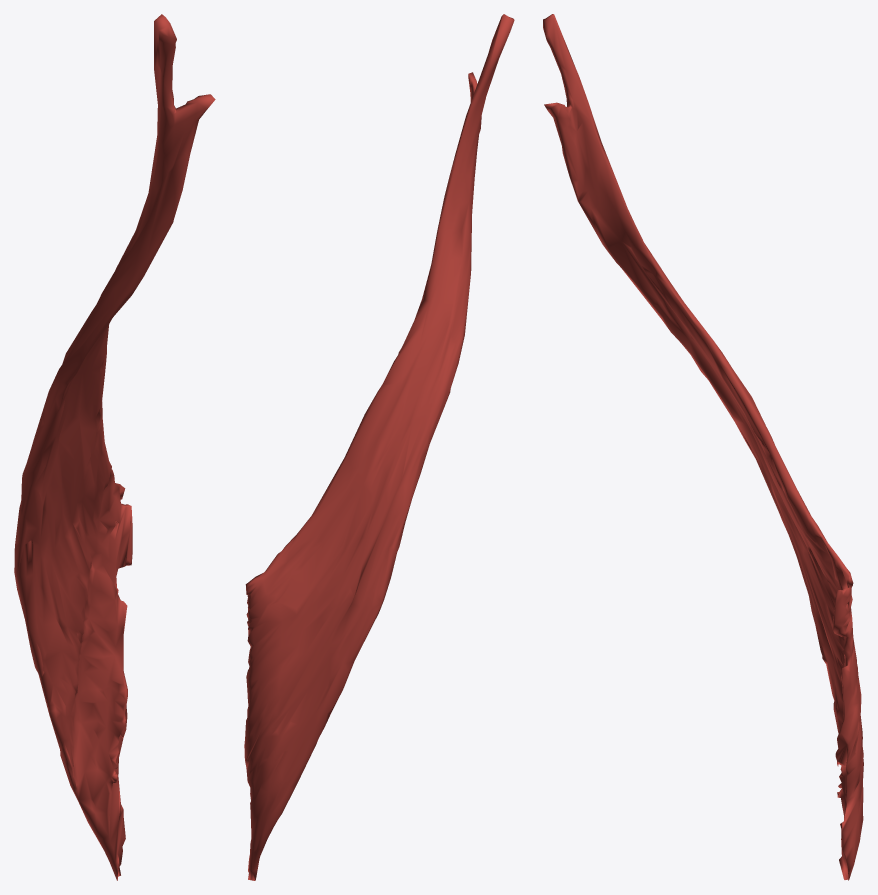
The model's file is musculos-splenius-colli-muscle-r.glb.
3 views of the same model, side by side, from view 1: azimuth 30°, elevation 25°; view 2: azimuth 150°, elevation 25°; view 3: azimuth 270°, elevation 25° (orthographic). The views are drawn at different scales.
Visible parts, largest first — view 1: Splenius colli muscle.r; view 2: Splenius colli muscle.r; view 3: Splenius colli muscle.r.
Part boxes in pixels (x1,y1,x2,y2): Splenius colli muscle.r: (14,14,215,880); Splenius colli muscle.r: (244,14,514,880); Splenius colli muscle.r: (543,14,863,880).
Size of the model in its own units: 0.0437 by 0.2575 by 0.0922.
